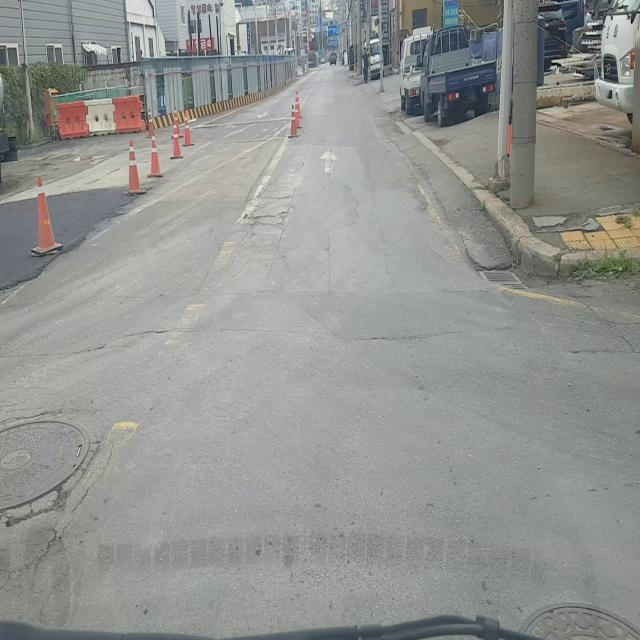Pothole: (0, 416, 101, 528)
